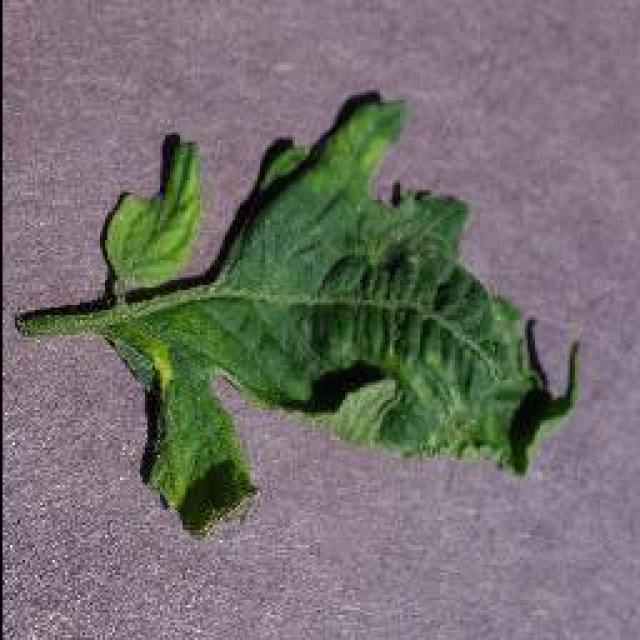Tomato___Tomato_mosaic_virus: (15, 90, 575, 530)
